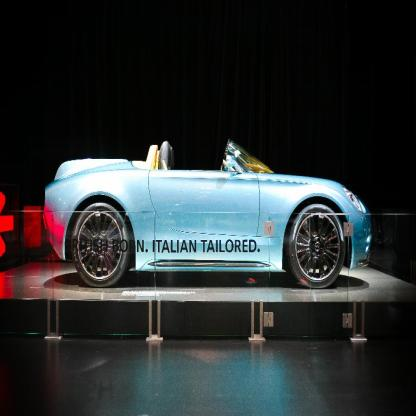Car: (43, 139, 373, 291)
